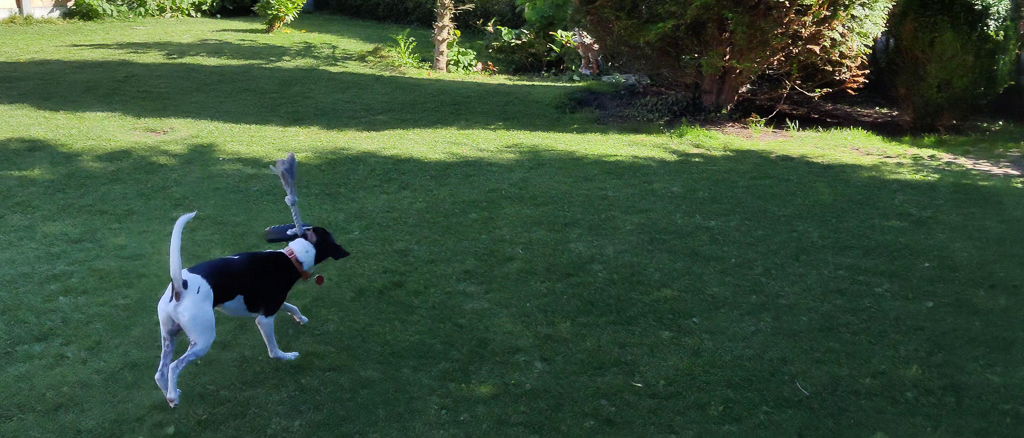Dog: (141, 199, 358, 413)
